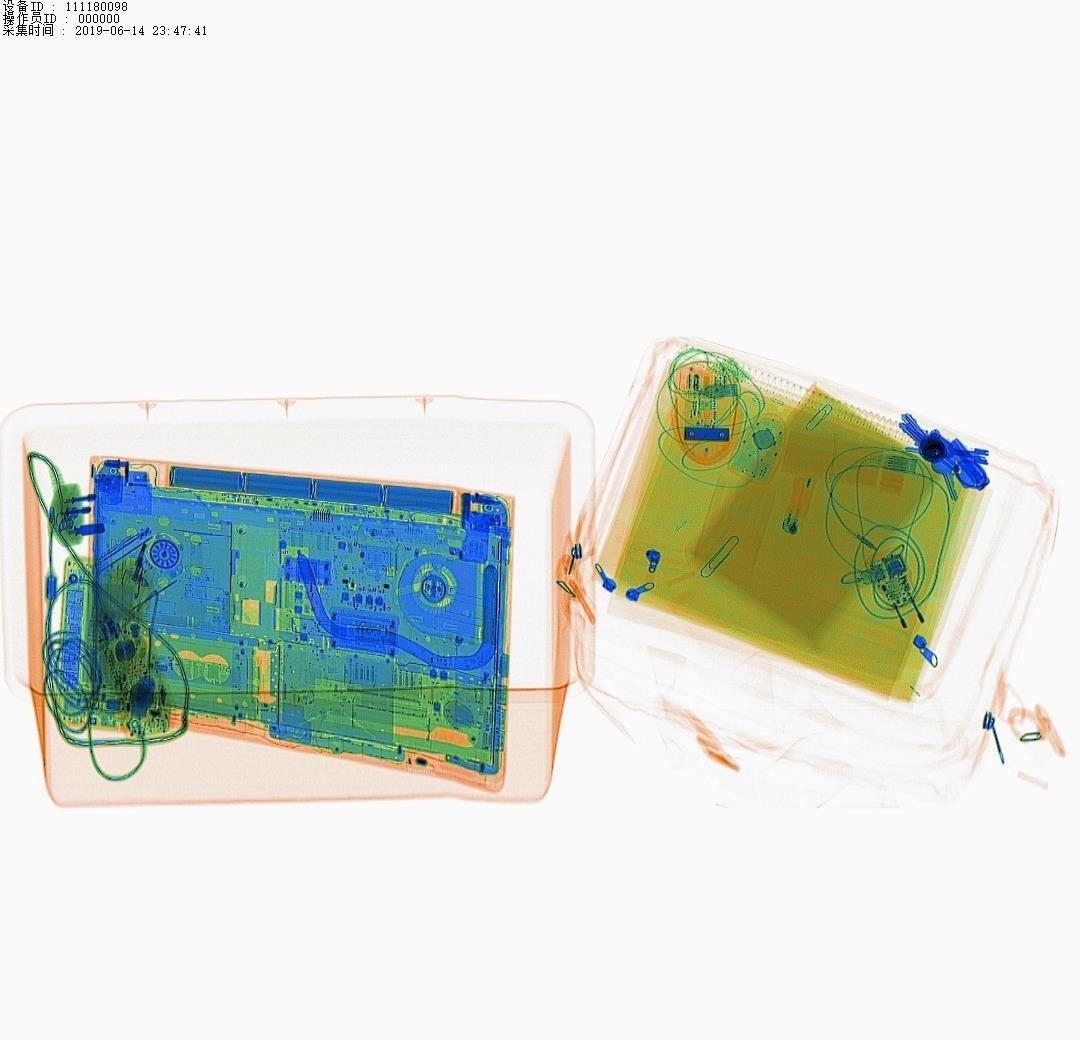NonmetallicFire: (774, 465, 831, 550)
